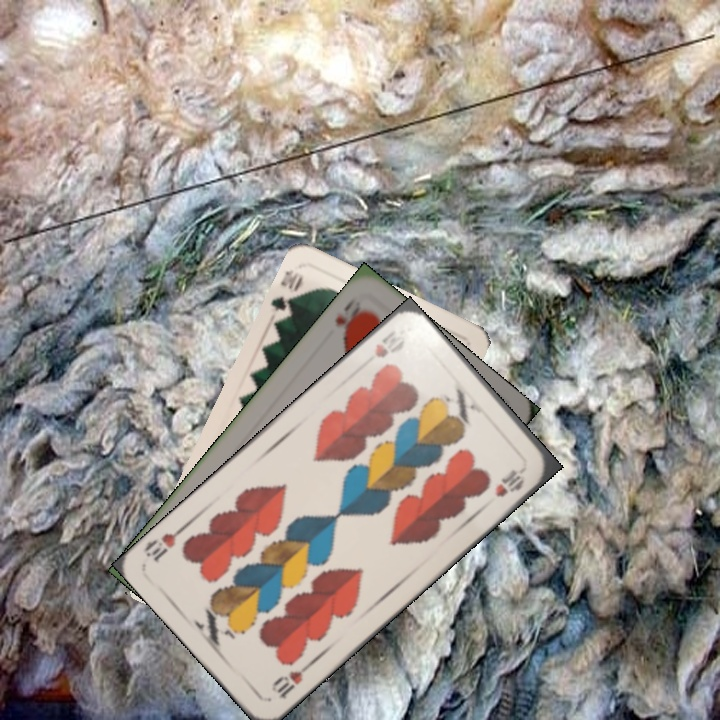G10: (267, 265, 306, 316)
H10: (267, 658, 314, 702), (370, 326, 408, 361)
HO: (330, 293, 368, 342)
